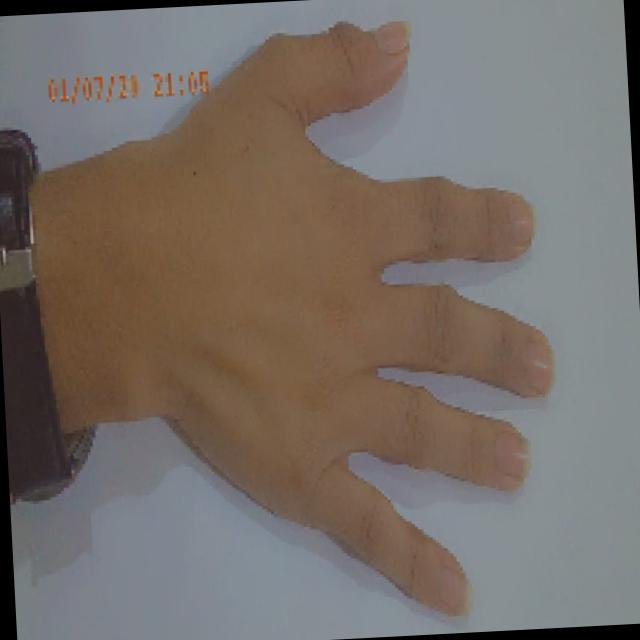Nail: (495, 431, 531, 478), (439, 566, 470, 613), (508, 198, 535, 250), (527, 343, 555, 387), (372, 22, 410, 53)
